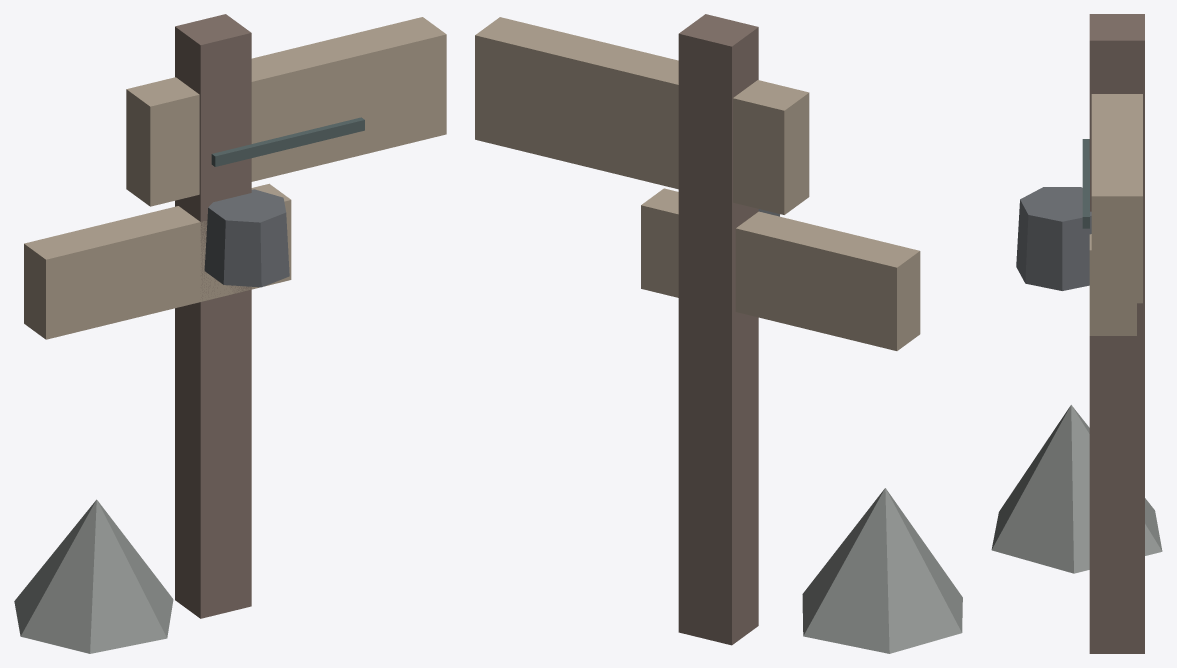
Rendered from last_lantern_sign.glb.
3 renders of one model, left to right at view 1: azimuth 30°, elevation 25°; view 2: azimuth 150°, elevation 25°; view 3: azimuth 270°, elevation 25°, orthographic. The views are drawn at different scales.
Parts seen in each view (by area): view 1: last_lantern_sign_material_01, last_lantern_sign_material_00, last_lantern_sign_material_05, last_lantern_sign_material_03, last_lantern_sign_material_02; view 2: last_lantern_sign_material_01, last_lantern_sign_material_00, last_lantern_sign_material_05; view 3: last_lantern_sign_material_00, last_lantern_sign_material_01, last_lantern_sign_material_05, last_lantern_sign_material_03, last_lantern_sign_material_02.
Part boxes in pixels (x1=…): last_lantern_sign_material_01: x1=24, y1=17, x2=446, y2=339; last_lantern_sign_material_00: x1=175, y1=14, x2=251, y2=618; last_lantern_sign_material_05: x1=14, y1=499, x2=173, y2=653; last_lantern_sign_material_03: x1=204, y1=189, x2=289, y2=287; last_lantern_sign_material_02: x1=211, y1=117, x2=364, y2=166; last_lantern_sign_material_01: x1=475, y1=17, x2=920, y2=350; last_lantern_sign_material_00: x1=678, y1=14, x2=758, y2=645; last_lantern_sign_material_05: x1=802, y1=488, x2=962, y2=653; last_lantern_sign_material_00: x1=1089, y1=14, x2=1144, y2=653; last_lantern_sign_material_01: x1=1089, y1=94, x2=1142, y2=335; last_lantern_sign_material_05: x1=991, y1=405, x2=1162, y2=573; last_lantern_sign_material_03: x1=1016, y1=187, x2=1091, y2=290; last_lantern_sign_material_02: x1=1082, y1=139, x2=1089, y2=228.
Bounding box in the file's own units: 1.36 × 1.72 × 0.4346.
